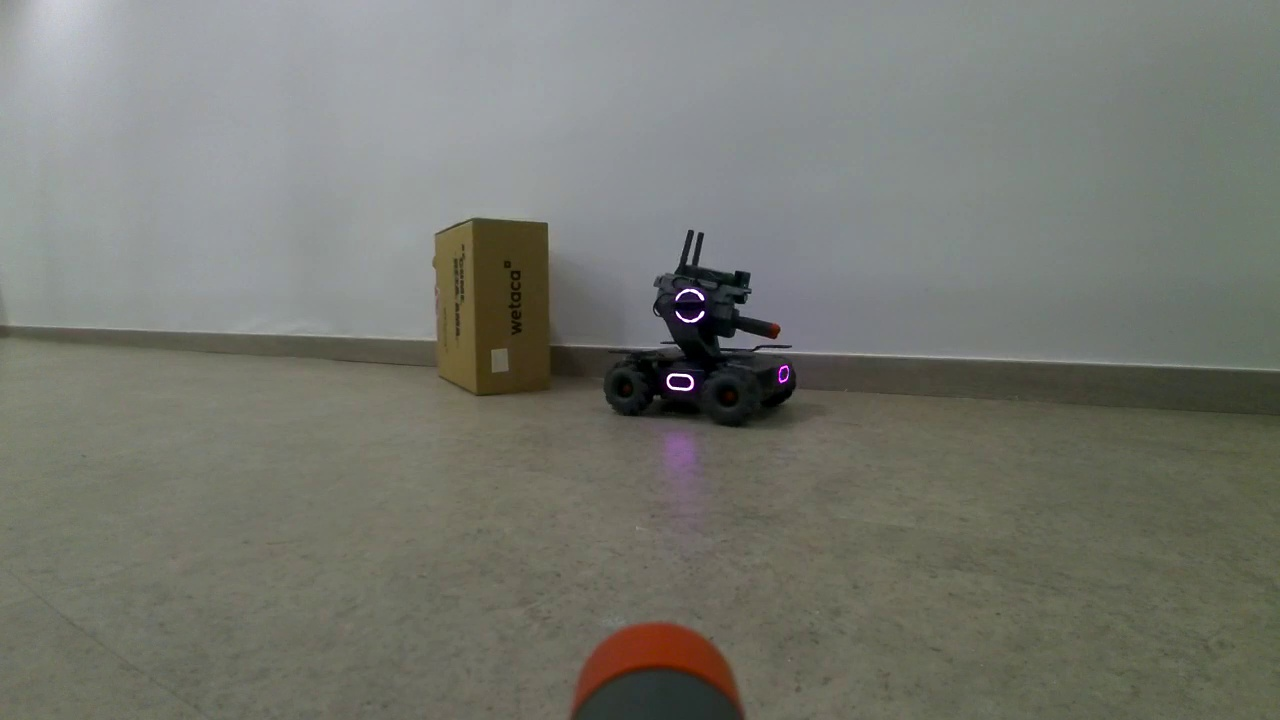robot: (603, 265, 798, 424)
